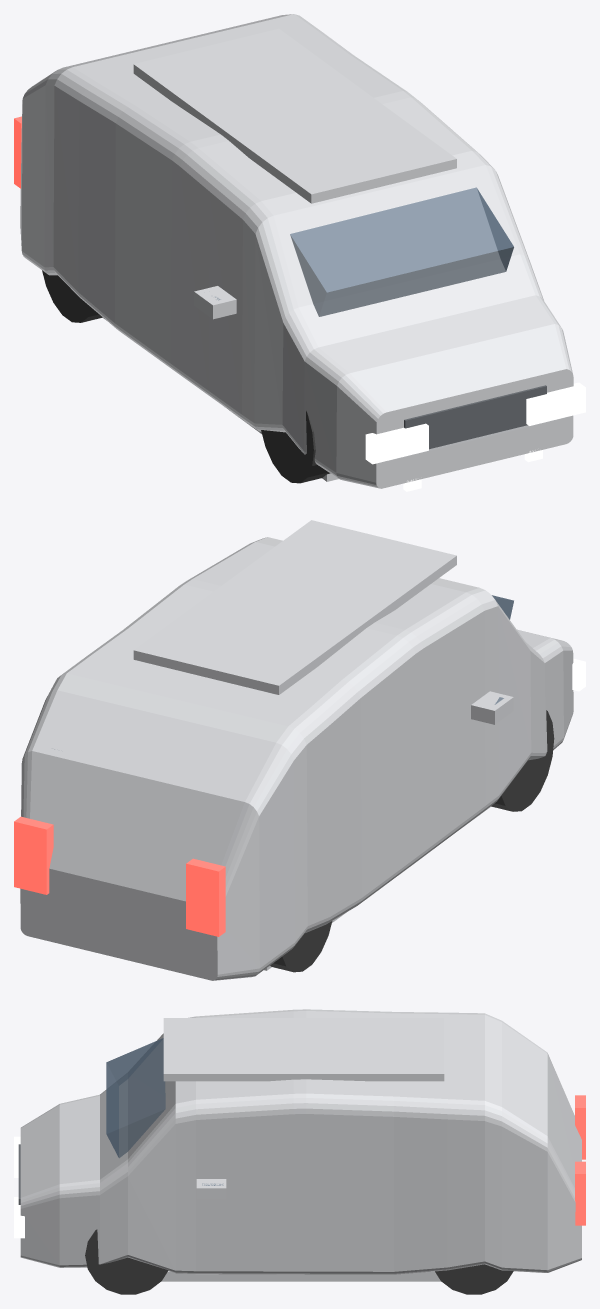
The model's file is verso.glb.
3 renders of one model, top to bottom at view 1: azimuth 30°, elevation 25°; view 2: azimuth 150°, elevation 25°; view 3: azimuth 270°, elevation 25°, orthographic. The views are drawn at different scales.
Parts seen in each view (by area): view 1: verso; view 2: verso; view 3: verso.
Boxes of the visible parts, bbox=[...] form: verso: bbox=[14, 14, 585, 491]; verso: bbox=[14, 520, 585, 980]; verso: bbox=[14, 1009, 585, 1294].
Bounding box in the file's own units: 2.02 × 1.65 × 4.22.
